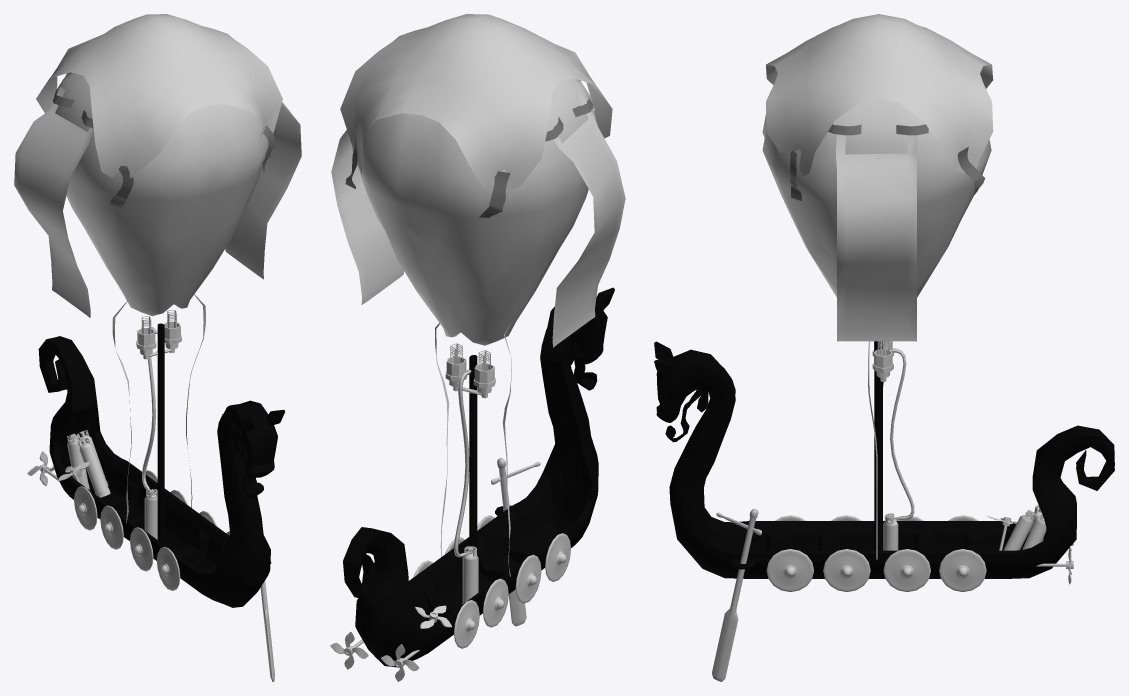
3 renders of one model, left to right at view 1: azimuth 30°, elevation 25°; view 2: azimuth 150°, elevation 25°; view 3: azimuth 270°, elevation 25°, orthographic. The views are drawn at different scales.
Visible parts, largest first — view 1: Balloon, Ship, Net, Banner1, Banner, Burners, Propane_Tank3, Shield6, Shield5, Shield7, Shield8, Propane_Tank (+4 smaller); view 2: Balloon, Ship, Net, Banner1, Banner, Burners, Steerboard, Fuel_Hose, Shield5, Shield8, Shield6, Shield7 (+4 smaller); view 3: Ship, Net, Banner, Balloon, Steerboard, Shield4, Shield3, Shield, Shield1, Fuel_Hose, Burners.
Part boxes in pixels (left/top/right/bottom): Balloon: left=54, top=72, right=268, bottom=316; Ship: left=38, top=323, right=284, bottom=607; Net: left=36, top=14, right=282, bottom=178; Banner1: left=14, top=87, right=93, bottom=317; Banner: left=225, top=102, right=301, bottom=279; Burners: left=136, top=310, right=181, bottom=359; Propane_Tank3: left=77, top=437, right=110, bottom=497; Shield6: left=100, top=505, right=123, bottom=549; Shield5: left=74, top=486, right=97, bottom=530; Shield7: left=130, top=527, right=153, bottom=571; Shield8: left=156, top=546, right=180, bottom=590; Propane_Tank: left=144, top=489, right=157, bottom=539; Balloon: left=352, top=78, right=597, bottom=345; Ship: left=343, top=287, right=614, bottom=667; Net: left=340, top=14, right=612, bottom=189; Banner1: left=548, top=90, right=625, bottom=347; Banner: left=331, top=130, right=403, bottom=304; Burners: left=445, top=343, right=495, bottom=398; Steerboard: left=491, top=458, right=540, bottom=626; Fuel_Hose: left=454, top=370, right=471, bottom=557; Shield5: left=453, top=600, right=479, bottom=648; Shield8: left=545, top=533, right=570, bottom=581; Shield6: left=483, top=578, right=508, bottom=627; Shield7: left=515, top=554, right=541, bottom=603; Ship: left=654, top=341, right=1114, bottom=578; Net: left=766, top=14, right=993, bottom=176; Banner: left=836, top=134, right=916, bottom=341; Balloon: left=762, top=92, right=991, bottom=297; Steerboard: left=712, top=508, right=761, bottom=681; Shield4: left=883, top=549, right=930, bottom=592; Shield3: left=766, top=549, right=813, bottom=592; Shield: left=823, top=549, right=870, bottom=591; Shield1: left=939, top=549, right=986, bottom=591; Fuel_Hose: left=889, top=348, right=914, bottom=520; Burners: left=872, top=341, right=893, bottom=381.
Bounding box in the file's own units: 40.35 × 95.24 × 61.91.
